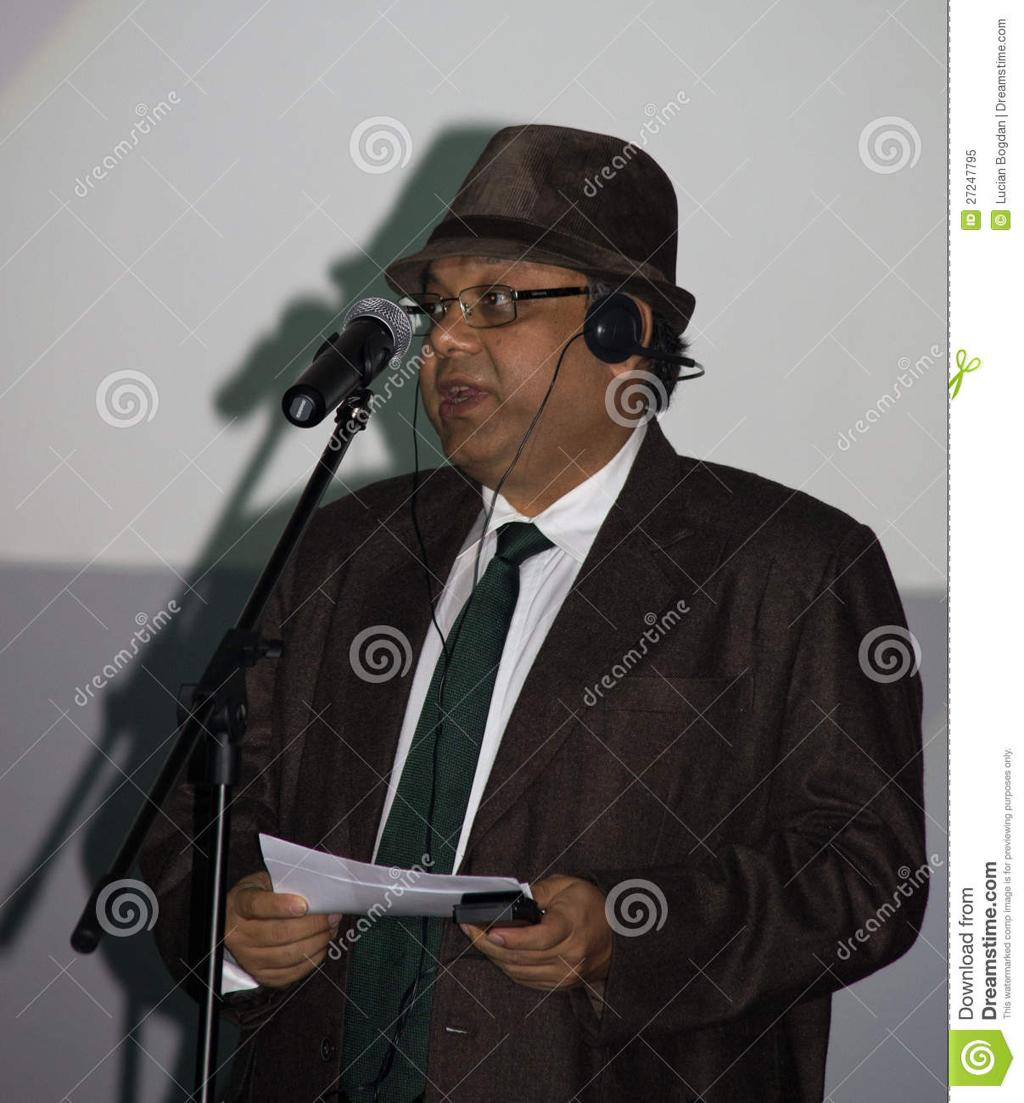face: (414, 218, 610, 459)
